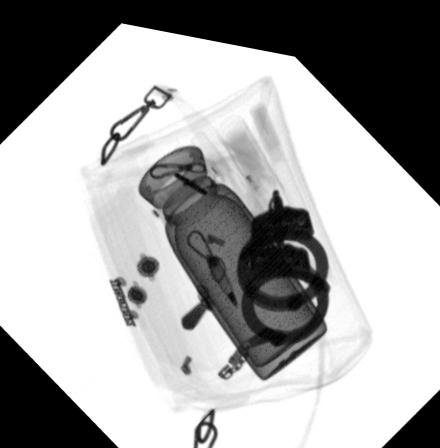Bullet: (203, 244, 238, 300)
HandCuffs: (234, 177, 334, 338)
